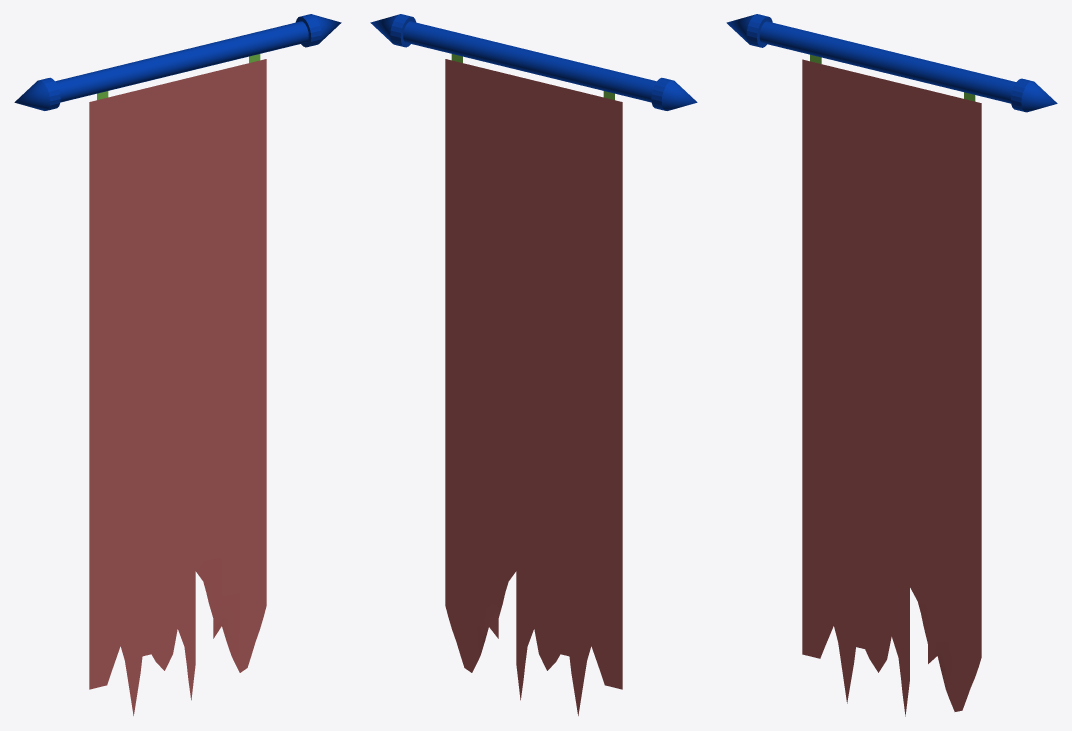
The model's file is estandartev2.fbx.
3 renders of one model, left to right at view 1: azimuth 30°, elevation 25°; view 2: azimuth 150°, elevation 25°; view 3: azimuth 330°, elevation 25°, orthographic.
Parts seen in each view (by area): view 1: pPlane1, pCylinder1; view 2: pPlane1, pCylinder1; view 3: pPlane1, pCylinder1.
Boxes of the visible parts, left/top/right/bottom form: pPlane1: left=89, top=59, right=266, bottom=715; pCylinder1: left=14, top=14, right=341, bottom=110; pPlane1: left=445, top=59, right=622, bottom=715; pCylinder1: left=370, top=14, right=697, bottom=110; pPlane1: left=802, top=59, right=981, bottom=716; pCylinder1: left=726, top=14, right=1057, bottom=112.
Bounding box in the file's own units: 0.7637 × 1.47 × 0.0642.
